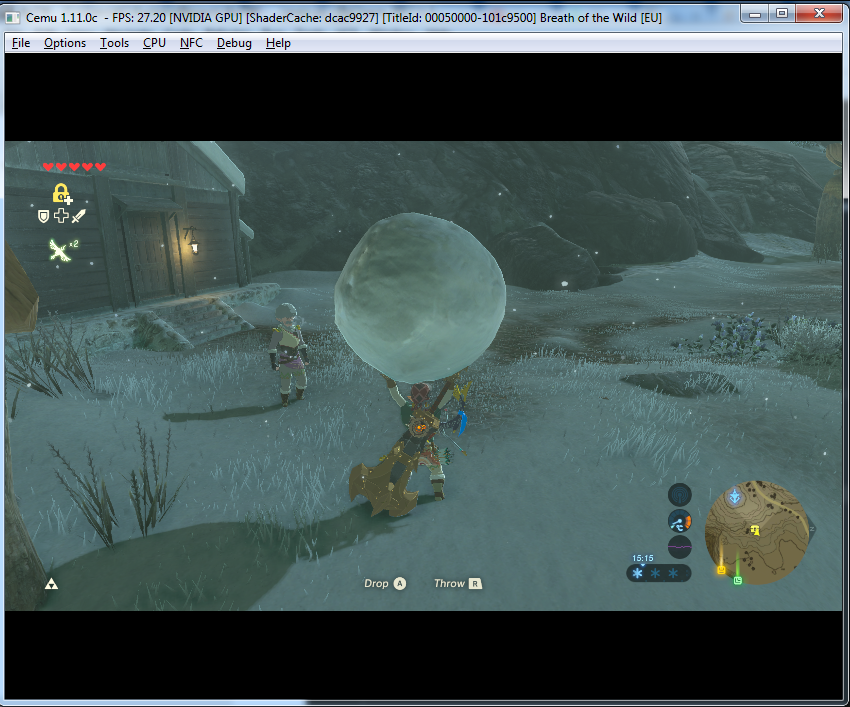dude: (264, 291, 316, 408)
link: (347, 361, 468, 534)
snowball: (332, 209, 512, 387)
